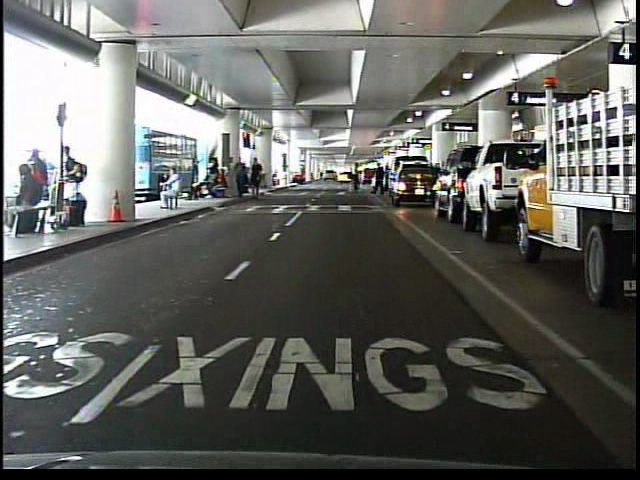person: (155, 168, 185, 214), (187, 156, 203, 204), (345, 160, 366, 196), (370, 158, 388, 200)
